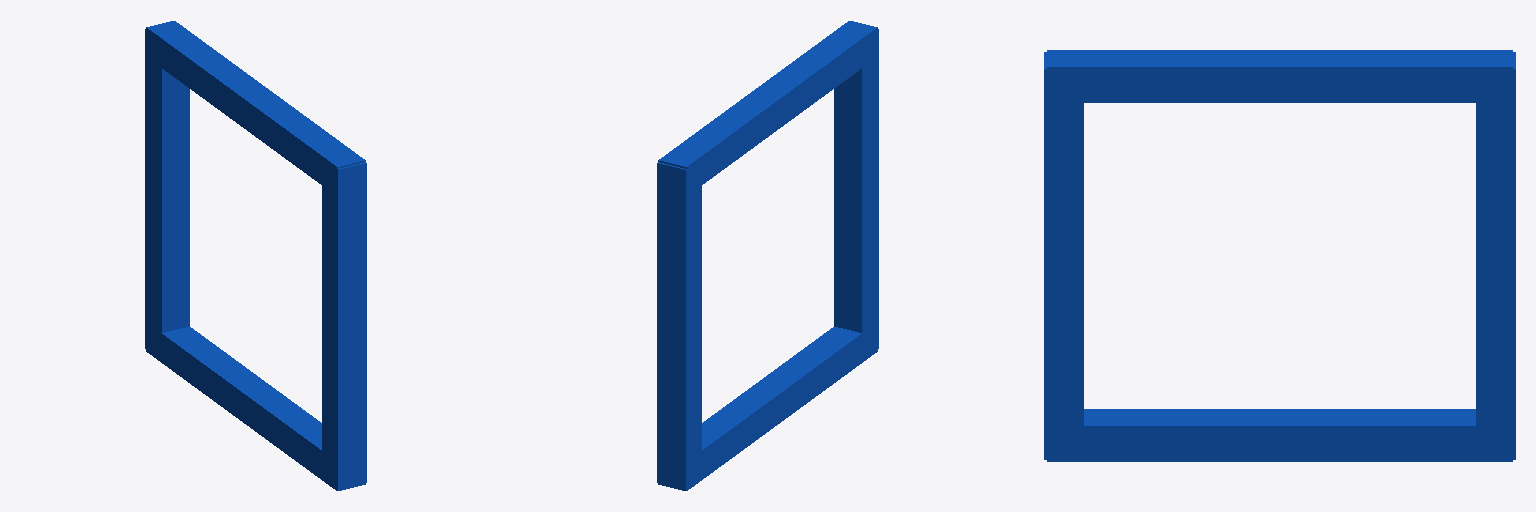
robot.urdf — gate_scale_052:
<?xml version="1.0" ?>
<robot name="gate_scale_052">
  <material name="gate_material">
    <color rgba="0.1 0.4 0.8 1.0"/>
  </material>
  <link name="base_link"/>
  <link name="left_post">
    <visual>
      <origin xyz="0.000 0.000 0.650" rpy="0 0 0"/>
      <geometry>
        <box size="0.120 0.120 1.300"/>
      </geometry>
      <material name="gate_material"/>
    </visual>
    <collision>
      <origin xyz="0.000 0.000 0.650" rpy="0 0 0"/>
      <geometry>
        <box size="0.120 0.120 1.300"/>
      </geometry>
    </collision>
    <inertial>
      <mass value="1.872"/>
      <inertia ixx="2.0" ixy="0.0" ixz="0.0" iyy="2.0" iyz="0.0" izz="2.0"/>
    </inertial>
  </link>
  <joint name="base_to_left_post" type="fixed">
    <parent link="base_link"/>
    <child link="left_post"/>
    <origin xyz="0.000 0.650 0.000" rpy="0 0 0"/>
  </joint>
  <link name="right_post">
    <visual>
      <origin xyz="0.000 0.000 0.650" rpy="0 0 0"/>
      <geometry>
        <box size="0.120 0.120 1.300"/>
      </geometry>
      <material name="gate_material"/>
    </visual>
    <collision>
      <origin xyz="0.000 0.000 0.650" rpy="0 0 0"/>
      <geometry>
        <box size="0.120 0.120 1.300"/>
      </geometry>
    </collision>
    <inertial>
      <mass value="1.872"/>
      <inertia ixx="2.0" ixy="0.0" ixz="0.0" iyy="2.0" iyz="0.0" izz="2.0"/>
    </inertial>
  </link>
  <joint name="base_to_right_post" type="fixed">
    <parent link="base_link"/>
    <child link="right_post"/>
    <origin xyz="0.000 -0.650 0.000" rpy="0 0 0"/>
  </joint>
  <link name="top_bar">
    <visual>
      <origin xyz="0.000 0.000 0.000" rpy="0 0 0"/>
      <geometry>
        <box size="0.120 1.404 0.120"/>
      </geometry>
      <material name="gate_material"/>
    </visual>
    <collision>
      <origin xyz="0.000 0.000 0.000" rpy="0 0 0"/>
      <geometry>
        <box size="0.120 1.404 0.120"/>
      </geometry>
    </collision>
    <inertial>
      <mass value="1.872"/>
      <inertia ixx="2.0" ixy="0.0" ixz="0.0" iyy="2.0" iyz="0.0" izz="2.0"/>
    </inertial>
  </link>
  <joint name="base_to_top_bar" type="fixed">
    <parent link="base_link"/>
    <child link="top_bar"/>
    <origin xyz="0.000 0.000 1.248" rpy="0 0 0"/>
  </joint>
  <link name="bottom_bar">
    <visual>
      <origin xyz="0.000 0.000 0.000" rpy="0 0 0"/>
      <geometry>
        <box size="0.120 1.404 0.120"/>
      </geometry>
      <material name="gate_material"/>
    </visual>
    <collision>
      <origin xyz="0.000 0.000 0.000" rpy="0 0 0"/>
      <geometry>
        <box size="0.120 1.404 0.120"/>
      </geometry>
    </collision>
    <inertial>
      <mass value="1.872"/>
      <inertia ixx="2.0" ixy="0.0" ixz="0.0" iyy="2.0" iyz="0.0" izz="2.0"/>
    </inertial>
  </link>
  <joint name="base_to_bottom_bar" type="fixed">
    <parent link="base_link"/>
    <child link="bottom_bar"/>
    <origin xyz="0.000 0.000 0.052" rpy="0 0 0"/>
  </joint>
</robot> 

--- Facts derived from the render (not from the file) ---
3 views of the same robot in one strip: view 1: azimuth 30°, elevation 25°; view 2: azimuth 150°, elevation 25°; view 3: azimuth 270°, elevation 25° (orthographic).
Model gate_scale_052 with 5 links and 4 joints (4 fixed), rooted at base_link, posed all joints at 0.
Visible links, largest first — view 1: right_post, left_post, top_bar, bottom_bar; view 2: left_post, right_post, top_bar, bottom_bar; view 3: bottom_bar, top_bar, left_post, right_post.
Link boxes in pixels (bbox=[...]): right_post: bbox=[322, 158, 366, 489]; left_post: bbox=[145, 29, 189, 360]; top_bar: bbox=[146, 21, 365, 189]; bottom_bar: bbox=[146, 322, 365, 490]; left_post: bbox=[657, 158, 701, 489]; right_post: bbox=[834, 29, 878, 360]; top_bar: bbox=[658, 21, 877, 193]; bottom_bar: bbox=[658, 323, 877, 490]; bottom_bar: bbox=[1047, 409, 1512, 461]; top_bar: bbox=[1047, 50, 1512, 102]; left_post: bbox=[1476, 52, 1515, 459]; right_post: bbox=[1044, 52, 1083, 459].
Bounding box of the posed robot: 0.12 × 1.42 × 1.32 m (x, y, z).
Geometry: primitives only (box / cylinder / sphere), no mesh files.
